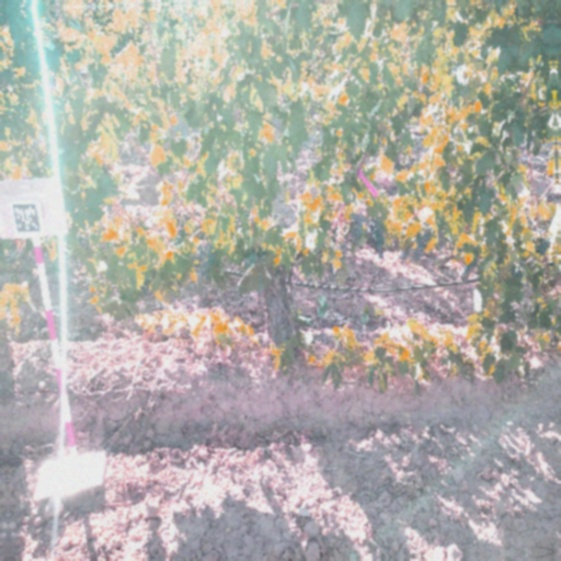QR: (12, 204, 41, 236)
